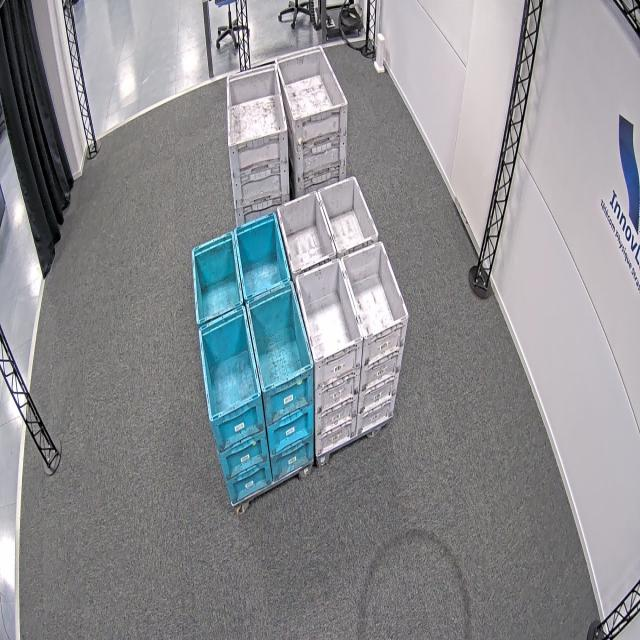Roll3G: (275, 45, 348, 122), (226, 61, 288, 148)
Roll8G: (294, 238, 410, 364), (276, 175, 380, 276)
RollB8: (198, 280, 315, 424), (190, 210, 291, 327)
